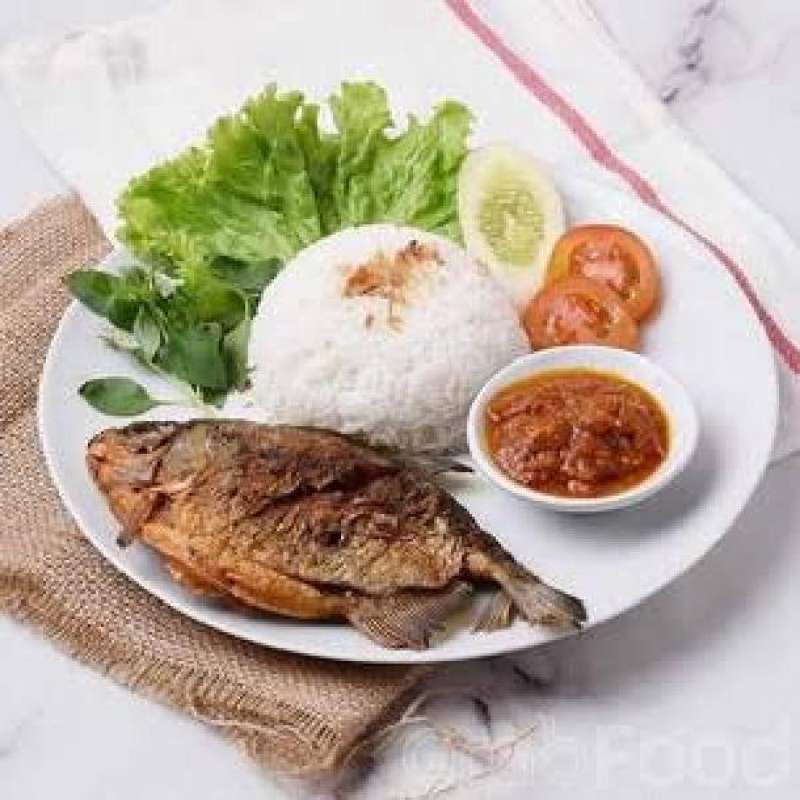buah_sayur_lainnya: (176, 159, 428, 221), (124, 295, 214, 356), (475, 168, 537, 253)
buah_sayur_vitA: (518, 384, 619, 469), (564, 241, 634, 345)
daging: (146, 458, 442, 566)
makanan_berpati: (311, 246, 452, 404)
